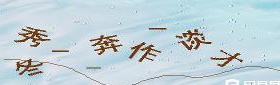chinese: (176, 28, 210, 51), (129, 42, 161, 66), (19, 24, 47, 48), (90, 33, 120, 53), (215, 49, 242, 71), (15, 57, 43, 78)
